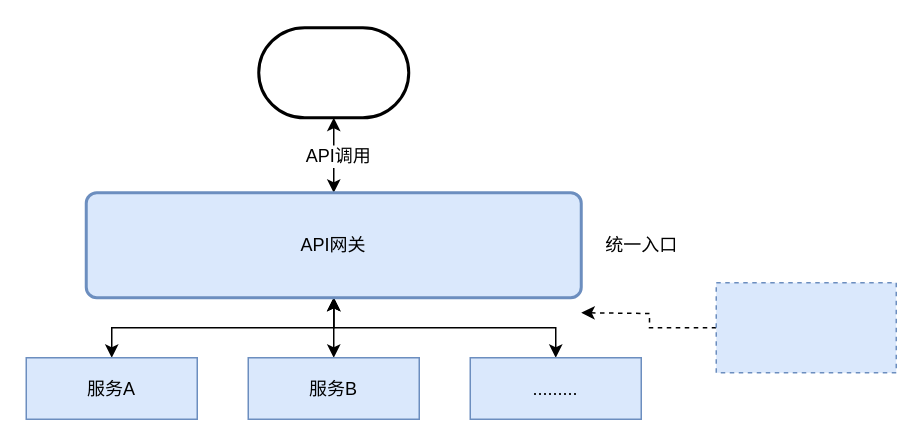
The diagram is 923 pixels wide and 446 high, and some of its shapes have lost their labels. Here are the shapes that lost their labels. From the top down, the centre of each, then its label:
the point at 333,72: 用户
the point at 805,327: 服务注册中心
